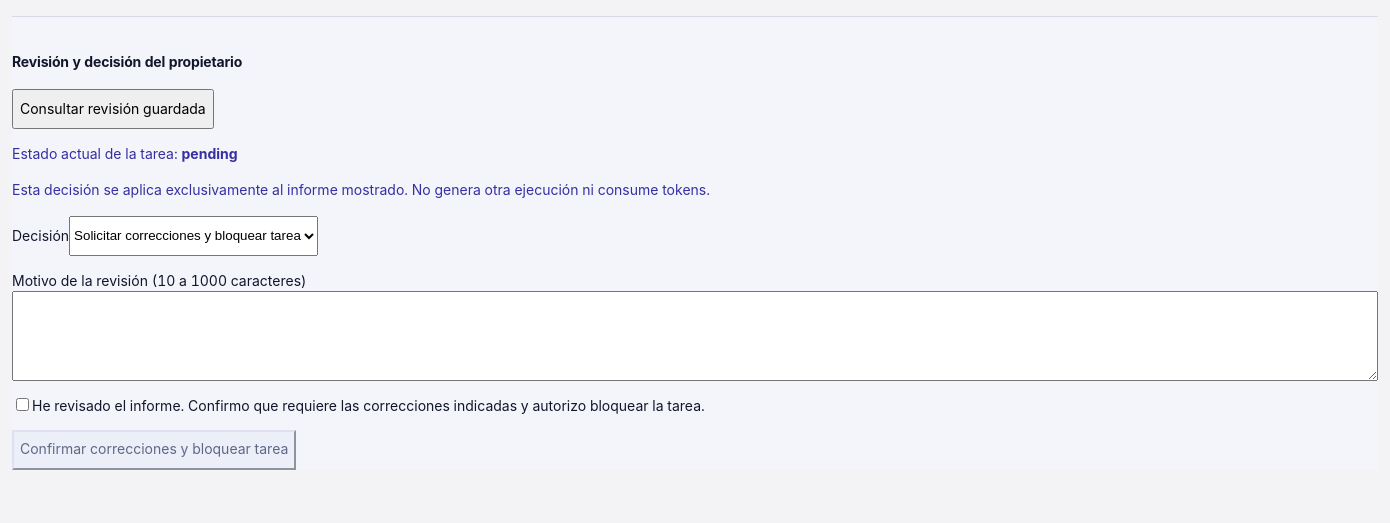
Scenario: document work review › locks an uncertain submission even when readback finds no decision
Type "Revisado el alcance y las conclusiones del informe" into the text box.
click(695, 336); type("Revisado el alcance y las conclusiones del informe")  # box [12, 291, 1378, 381]
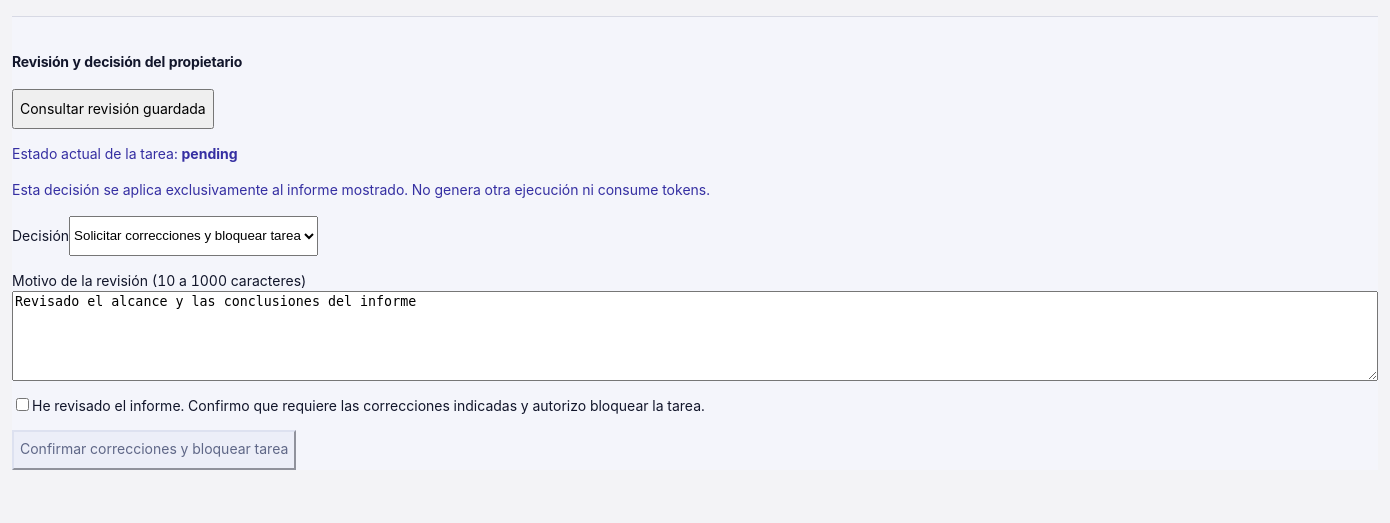
Click the checkbox.
click(22, 404)  # box [16, 398, 29, 411]
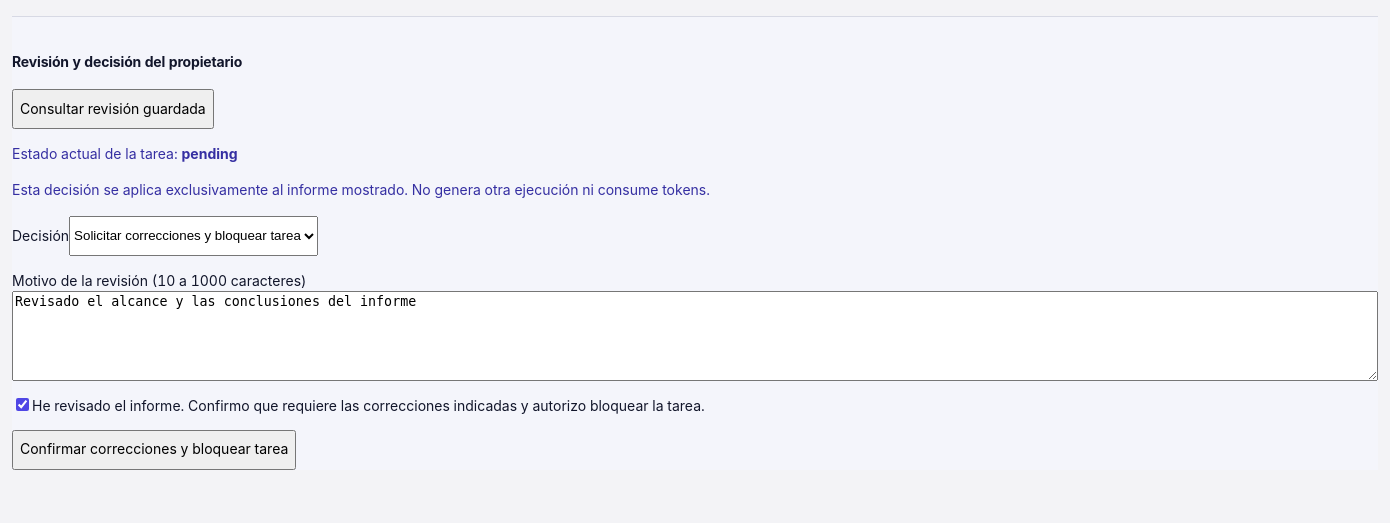
Click the button "Confirmar correcciones y bloquear tarea".
click(154, 450)  # box [12, 430, 296, 470]
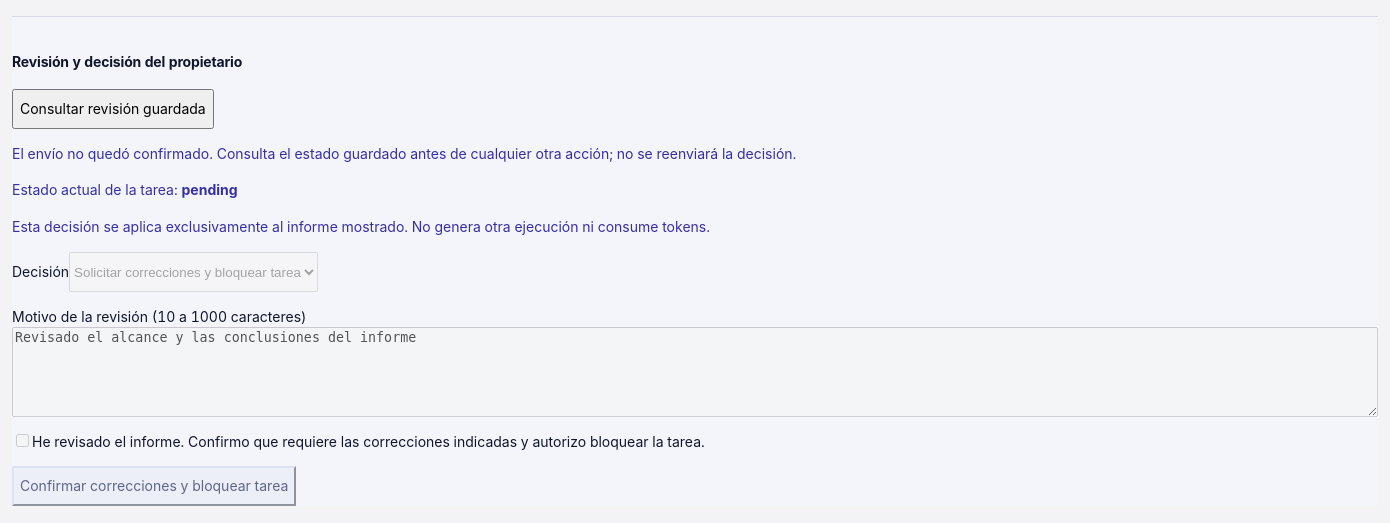
Result: the message is shown at [12, 145, 796, 162]
Result: the button "Confirmar correcciones y bloquear tarea" is disabled at [12, 466, 296, 506]
